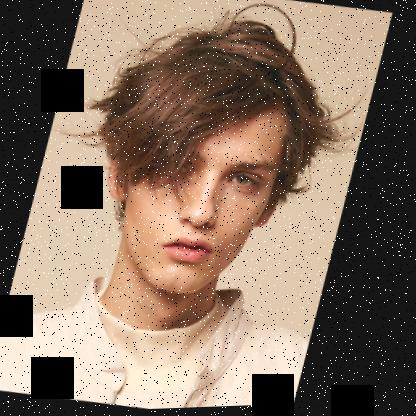Male: (83, 83, 305, 309)
